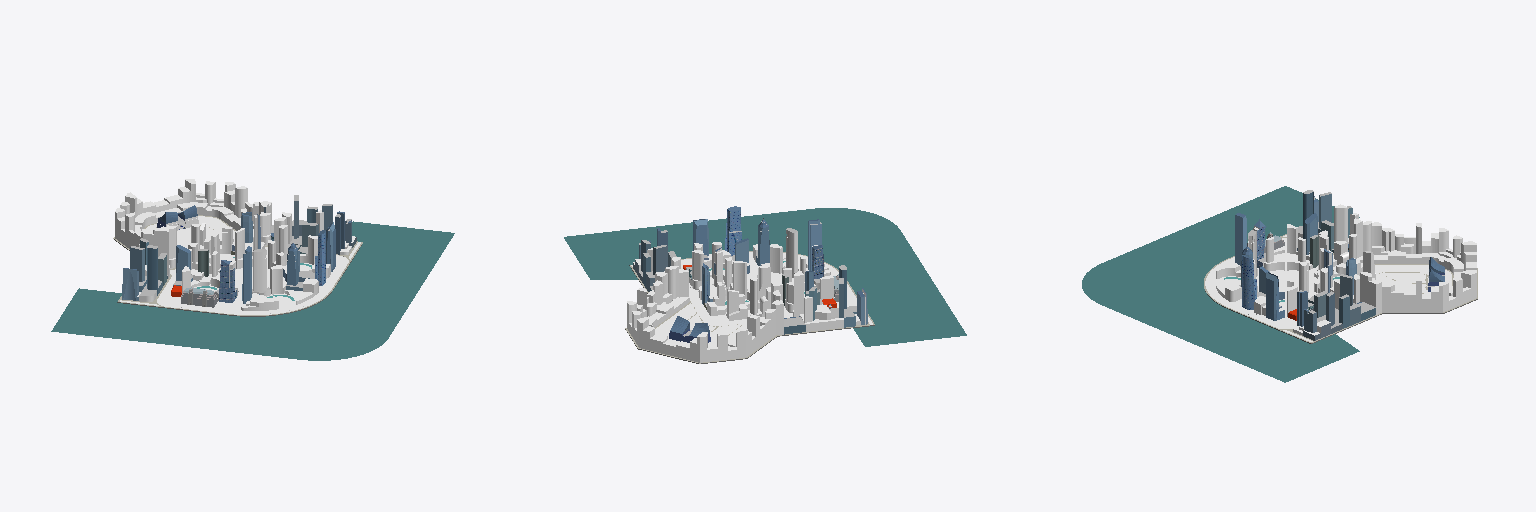
3 renders of one model, left to right at view 1: azimuth 30°, elevation 25°; view 2: azimuth 150°, elevation 25°; view 3: azimuth 270°, elevation 25°, orthographic.
Visible parts, largest first — view 1: Mesh33 Wharf_Ground_Base1 Model, Mesh26 Uptown_Camellia_City1 Model, Mesh19 Camellia_City_World_Center1 Model, Mesh35 Camellia_City_Promenade1 Model, Mesh10 University_Place1 Model, Mesh29 Camellia_City_Financial_Center1 Model, Mesh15 Camellia_City_Center1 Model, Mesh4 Midtown_Camellia_City1 Model, Mesh14 Camellia_City_Center1 Model, Mesh31 Camellia_City_Financial_Center1 Model, Mesh1 Midtown_Camellia_City1 Model, Mesh13 University_Place1 Model (+2 smaller); view 2: Mesh33 Wharf_Ground_Base1 Model, Mesh26 Uptown_Camellia_City1 Model, Mesh19 Camellia_City_World_Center1 Model, Mesh29 Camellia_City_Financial_Center1 Model, Mesh1 Midtown_Camellia_City1 Model, Mesh35 Camellia_City_Promenade1 Model, Mesh4 Midtown_Camellia_City1 Model, Mesh10 University_Place1 Model, Mesh31 Camellia_City_Financial_Center1 Model, Mesh25 Camellia_City_Pok_mon_Gym1 Uptown_Camellia_City1 Model, Mesh15 Camellia_City_Center1 Model, Mesh14 Camellia_City_Center1 Model; view 3: Mesh33 Wharf_Ground_Base1 Model, Mesh26 Uptown_Camellia_City1 Model, Mesh35 Camellia_City_Promenade1 Model, Mesh19 Camellia_City_World_Center1 Model, Mesh29 Camellia_City_Financial_Center1 Model, Mesh1 Midtown_Camellia_City1 Model, Mesh10 University_Place1 Model, Mesh14 Camellia_City_Center1 Model, Mesh31 Camellia_City_Financial_Center1 Model, Mesh4 Midtown_Camellia_City1 Model.
Part boxes in pixels (x1,y1,x2,y2): Mesh33 Wharf_Ground_Base1 Model: (51, 215, 454, 360); Mesh26 Uptown_Camellia_City1 Model: (115, 179, 271, 268); Mesh19 Camellia_City_World_Center1 Model: (122, 227, 169, 301); Mesh35 Camellia_City_Promenade1 Model: (282, 195, 356, 254); Mesh10 University_Place1 Model: (173, 245, 211, 292); Mesh29 Camellia_City_Financial_Center1 Model: (298, 222, 335, 285); Mesh15 Camellia_City_Center1 Model: (285, 243, 318, 304); Mesh4 Midtown_Camellia_City1 Model: (219, 212, 264, 255); Mesh14 Camellia_City_Center1 Model: (241, 246, 278, 310); Mesh31 Camellia_City_Financial_Center1 Model: (274, 217, 317, 265); Mesh1 Midtown_Camellia_City1 Model: (188, 223, 219, 273); Mesh13 University_Place1 Model: (215, 260, 236, 302); Mesh33 Wharf_Ground_Base1 Model: (564, 208, 966, 363); Mesh26 Uptown_Camellia_City1 Model: (627, 266, 783, 362); Mesh19 Camellia_City_World_Center1 Model: (793, 265, 867, 331); Mesh29 Camellia_City_Financial_Center1 Model: (693, 206, 748, 267); Mesh1 Midtown_Camellia_City1 Model: (726, 265, 770, 320); Mesh35 Camellia_City_Promenade1 Model: (633, 228, 680, 291); Mesh4 Midtown_Camellia_City1 Model: (699, 247, 729, 315); Mesh10 University_Place1 Model: (782, 271, 833, 312); Mesh31 Camellia_City_Financial_Center1 Model: (686, 242, 724, 289); Mesh25 Camellia_City_Pok_mon_Gym1 Uptown_Camellia_City1 Model: (669, 316, 710, 342); Mesh15 Camellia_City_Center1 Model: (753, 218, 785, 265); Mesh14 Camellia_City_Center1 Model: (798, 219, 830, 276); Mesh33 Wharf_Ground_Base1 Model: (1082, 186, 1477, 382); Mesh26 Uptown_Camellia_City1 Model: (1353, 218, 1476, 314); Mesh35 Camellia_City_Promenade1 Model: (1293, 274, 1360, 340); Mesh19 Camellia_City_World_Center1 Model: (1298, 190, 1358, 252); Mesh29 Camellia_City_Financial_Center1 Model: (1242, 255, 1284, 320); Mesh1 Midtown_Camellia_City1 Model: (1318, 234, 1375, 278); Mesh10 University_Place1 Model: (1287, 213, 1330, 269); Mesh14 Camellia_City_Center1 Model: (1216, 213, 1246, 278); Mesh31 Camellia_City_Financial_Center1 Model: (1287, 262, 1327, 316); Mesh4 Midtown_Camellia_City1 Model: (1318, 249, 1375, 294).
Size of the model in its own units: 101462 by 13584 by 86242.
70 materials, 4 textured.